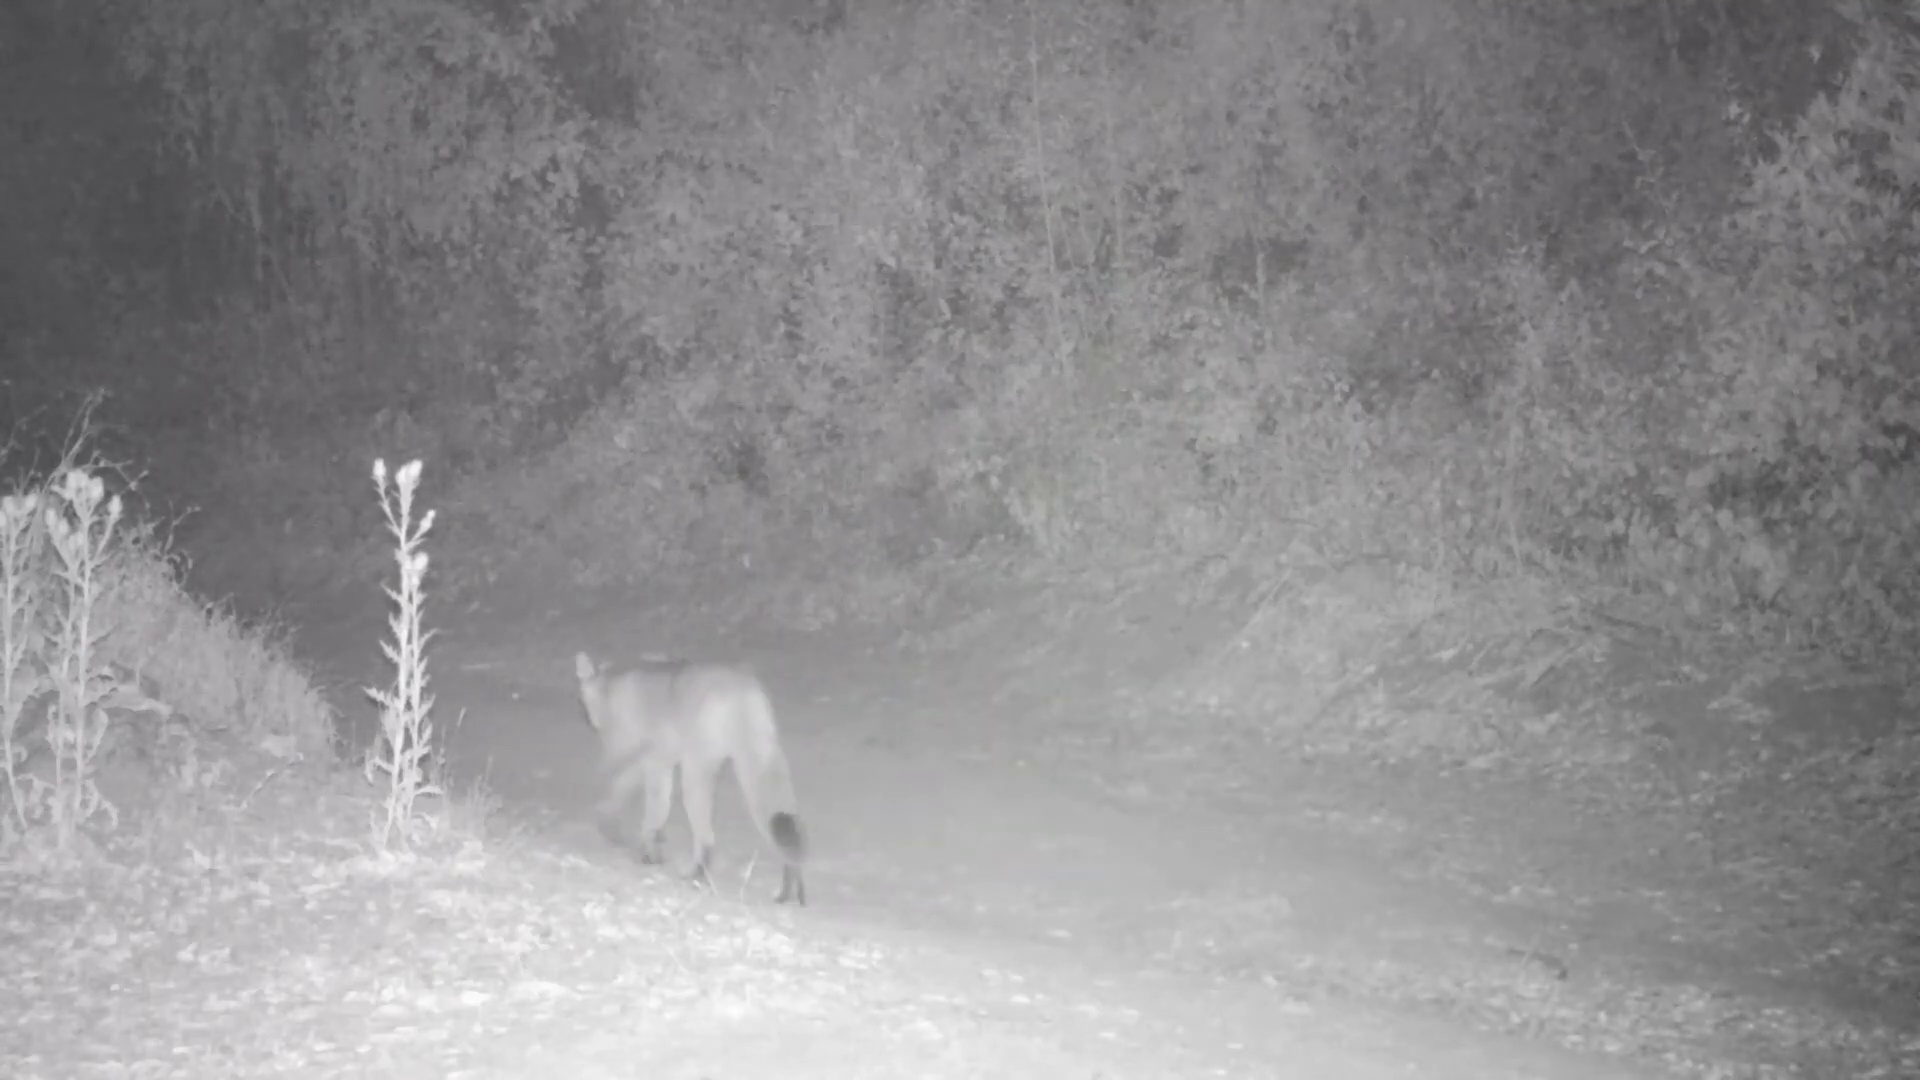Lion: (570, 647, 822, 911)
